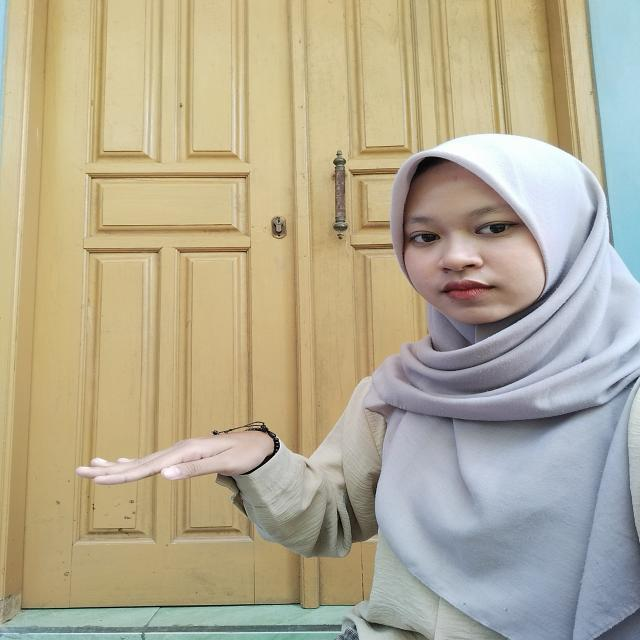adik: (54, 418, 318, 505)
